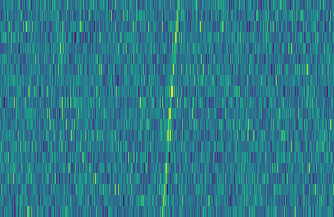signal: (157, 0, 182, 217)
